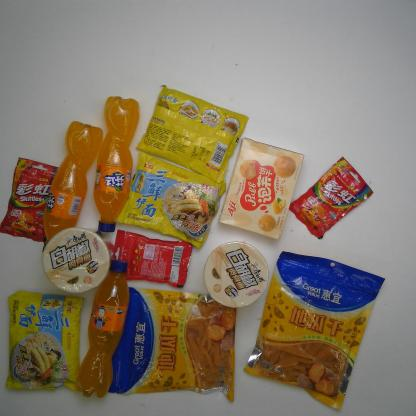Candy: (289, 154, 375, 240), (2, 156, 61, 243), (112, 228, 192, 288)
Dessert: (217, 136, 305, 241)
Dried Fruit: (241, 249, 386, 412), (108, 286, 238, 403)
Drink: (41, 119, 104, 253), (74, 257, 131, 401), (92, 95, 141, 234)
Instant Noodles: (134, 84, 250, 184), (116, 151, 228, 250), (3, 288, 86, 394), (40, 226, 112, 296), (202, 240, 271, 310)
